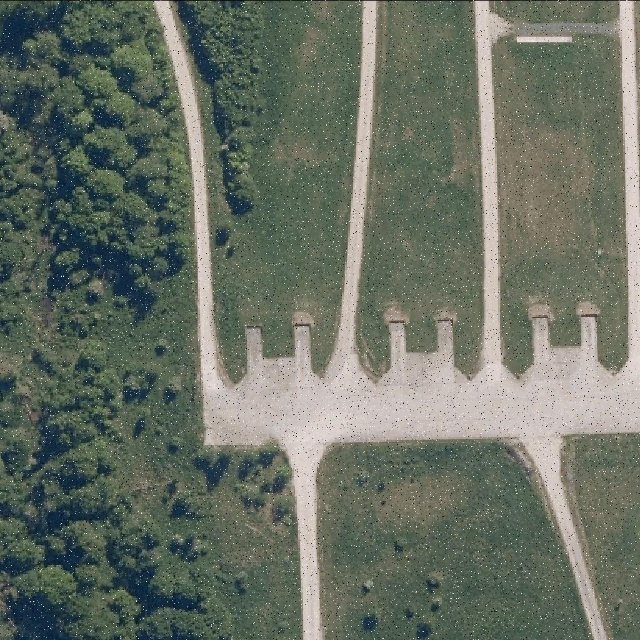vegetation: (1, 342, 231, 639), (0, 1, 191, 302), (179, 0, 265, 216)
